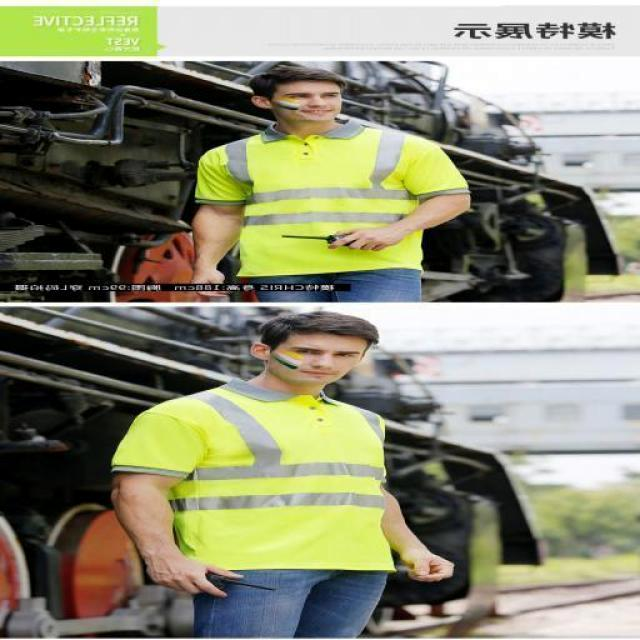no_head_wear: (256, 309, 378, 351), (250, 64, 345, 99)
person: (111, 311, 451, 636), (191, 62, 470, 300)
